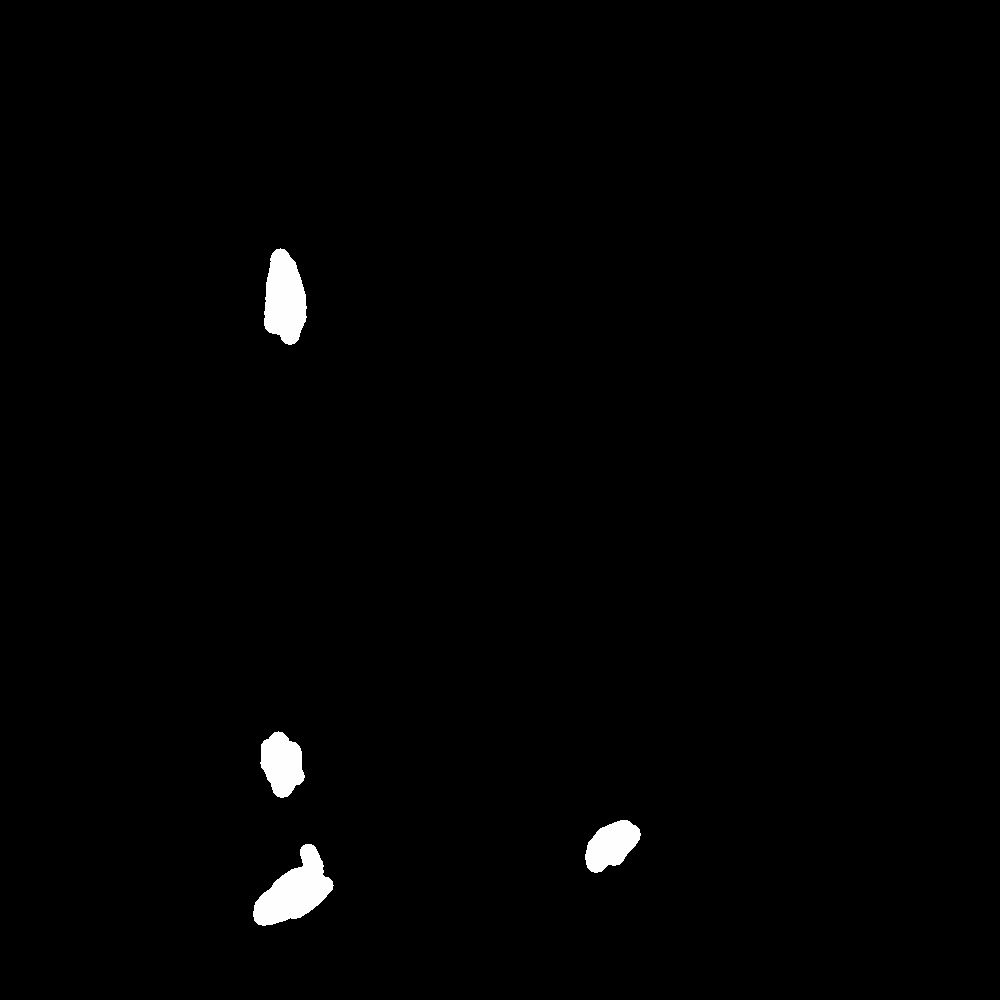illegal: (258, 129, 346, 351)
